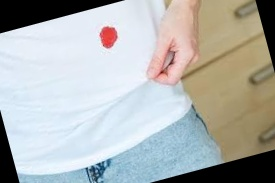blood: (95, 21, 123, 51)
